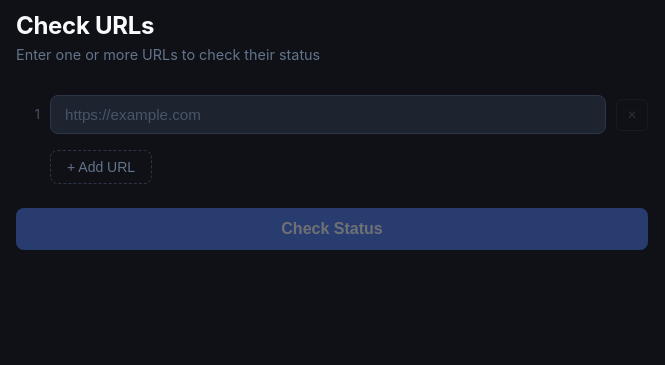
Scenario: Home Page › can add more url inputs and remove them
Click the button "+ Add URL": coordinates (101, 167) [50, 150, 152, 184]
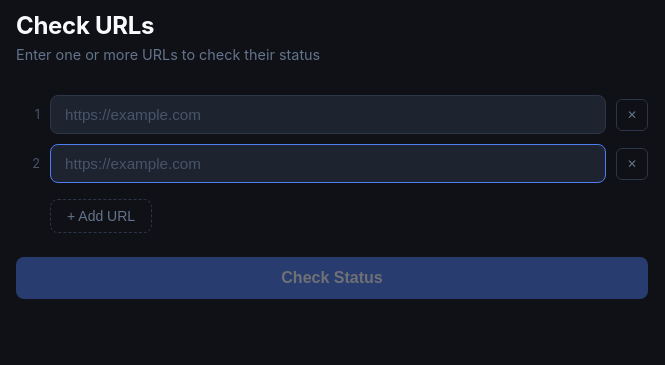
Click the button "+ Add URL": coordinates (101, 216) [50, 199, 152, 233]
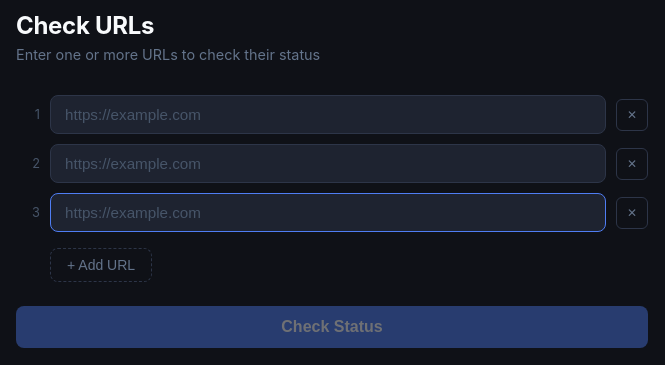
Check: the number of fields with placeholder "https://example.com" is 3, box [50, 95, 606, 134]; [50, 144, 606, 183]; [50, 193, 606, 232]
Click the button named "Remove URL": coordinates (632, 164) [616, 148, 648, 180]
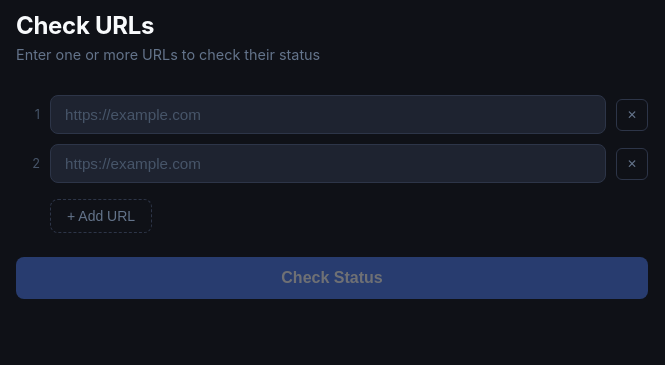
Check: the number of fields with placeholder "https://example.com" is 2, box [50, 95, 606, 134]; [50, 144, 606, 183]
